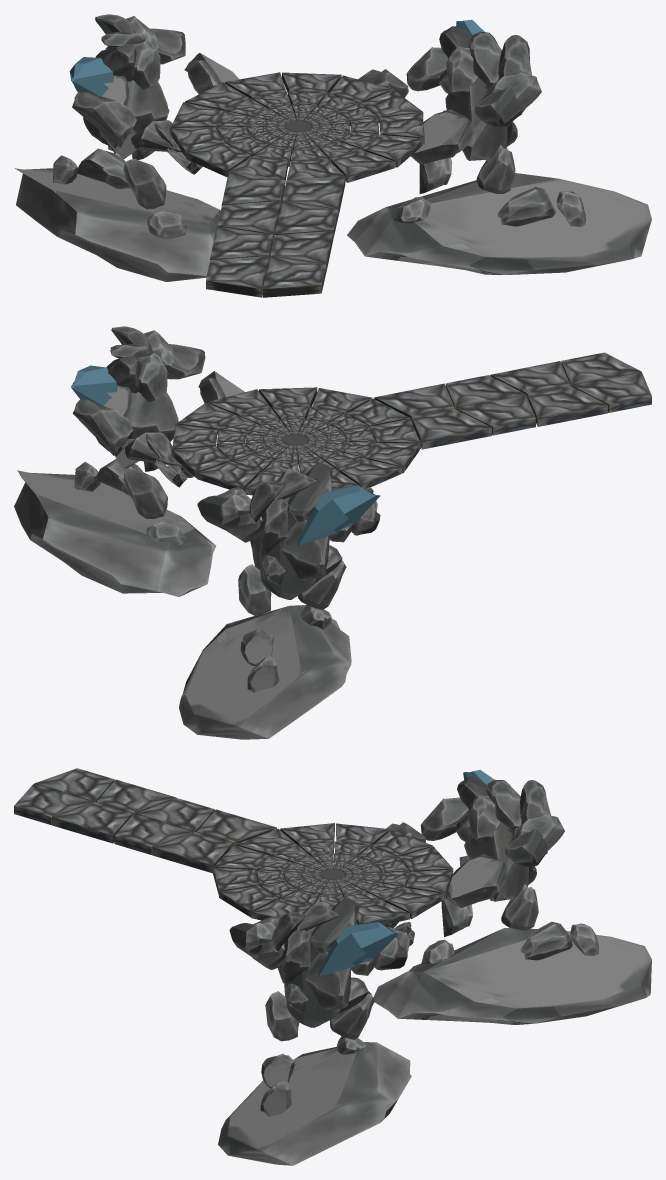
File: stoneTiles.fbx
The picture shows the model from 3 angles, top to bottom: view 1: azimuth 30°, elevation 25°; view 2: azimuth 150°, elevation 25°; view 3: azimuth 270°, elevation 25°; orthographic projection. The views are drawn at different scales.
Parts seen in each view (by area): view 1: HoldingGiant, StoneCircle.004, HoldingGiant2; view 2: StoneCircle.004, HoldingGiant2, HoldingGiant; view 3: HoldingGiant2, StoneCircle.004, HoldingGiant.
Part boxes in pixels (x1,y1,x2,y2): HoldingGiant: (347, 19, 651, 274); StoneCircle.004: (170, 72, 424, 297); HoldingGiant2: (15, 14, 239, 281); StoneCircle.004: (171, 352, 651, 495); HoldingGiant2: (179, 463, 380, 739); HoldingGiant: (14, 326, 244, 596); HoldingGiant2: (373, 770, 651, 1024); StoneCircle.004: (14, 768, 453, 925); HoldingGiant: (218, 898, 414, 1165).
Bounding box in the file's own units: 17512 × 7225 × 18851.
